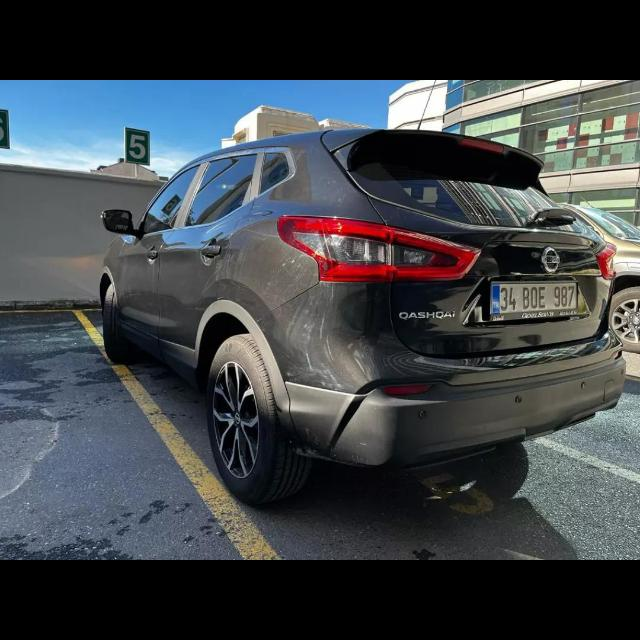Plaka: (495, 284, 581, 316)
